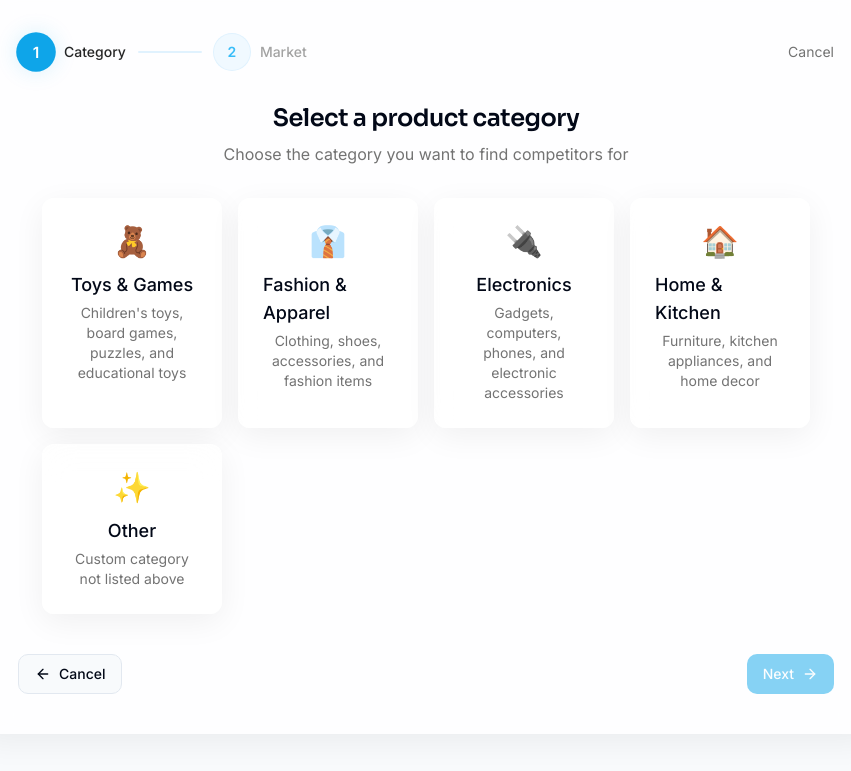
Test: OnboardingForm › keeps 'Find Competitors' disabled until a location is provided
Click the heading "Home & Kitchen" at x=689, y=284, box [655,274,722,323]
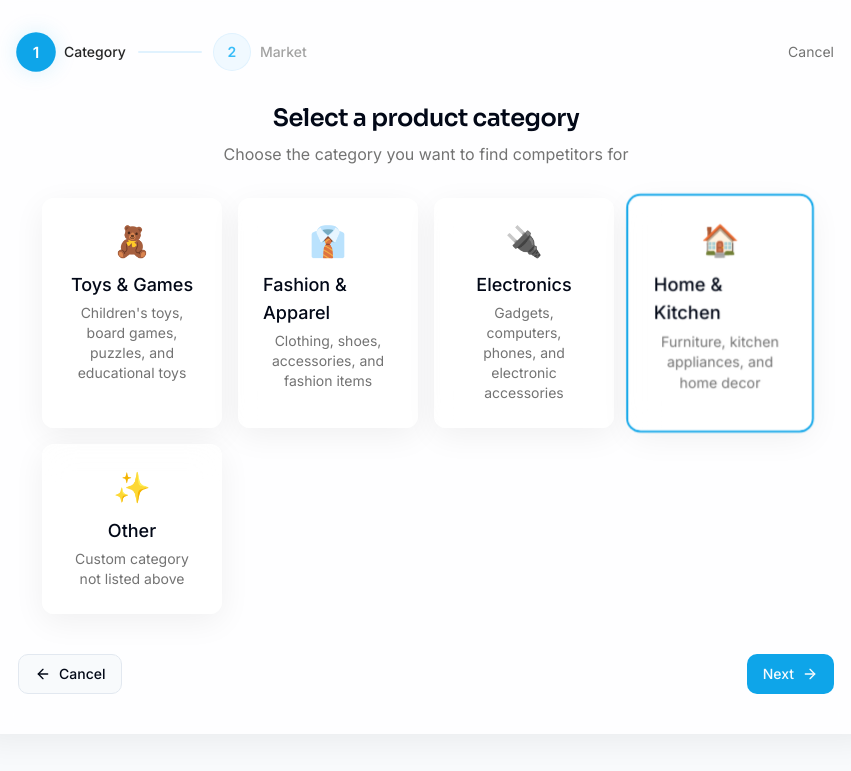
Click the button "Next" at x=790, y=674, box [747,654,834,694]
(page scrolled)
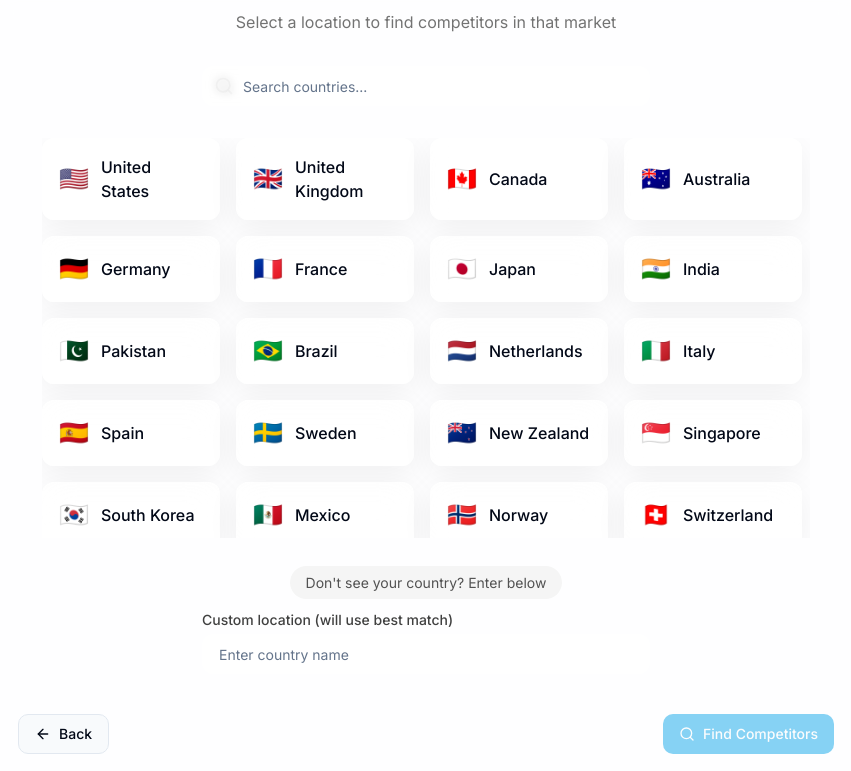
Result: the button "Find Competitors" is disabled at [663,714,834,754]
